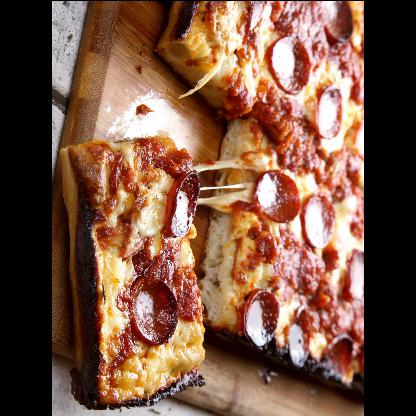pizza: (160, 0, 364, 402), (62, 137, 204, 409)
